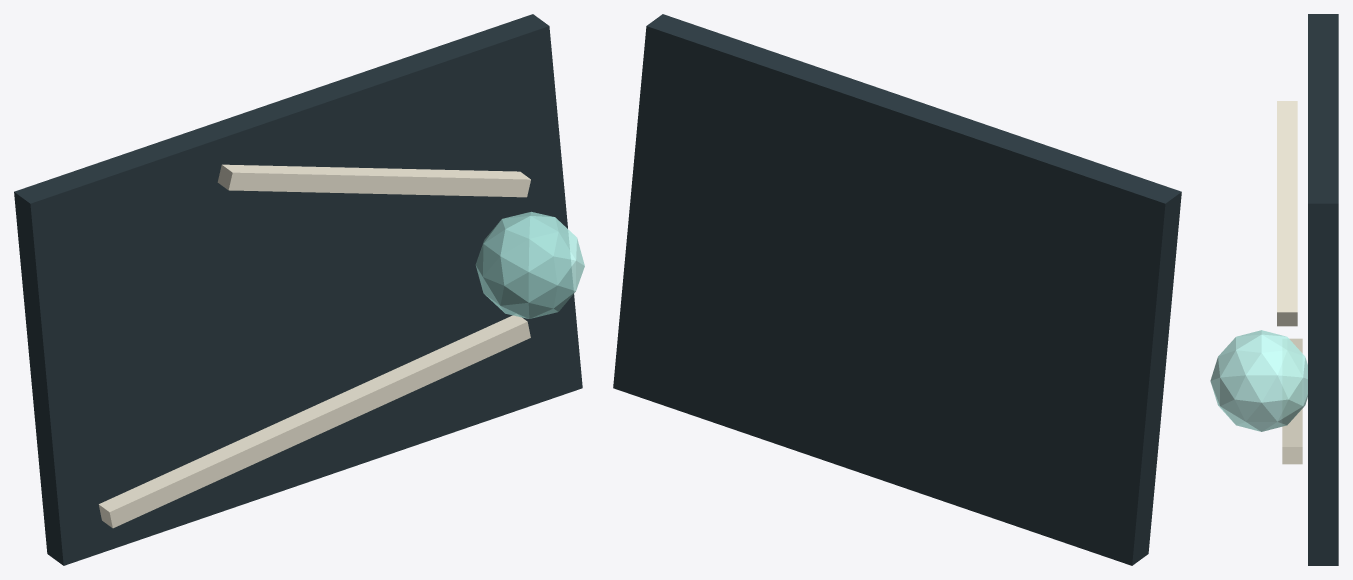
The model's file is 02_world_prop_polish.glb.
3 views of the same model, side by side, from view 1: azimuth 30°, elevation 25°; view 2: azimuth 150°, elevation 25°; view 3: azimuth 270°, elevation 25° (orthographic). The views are drawn at different scales.
Parts seen in each view (by area): view 1: object_overlay_plate, edge_wear_a, glow_socket, edge_wear_b; view 2: object_overlay_plate; view 3: object_overlay_plate, glow_socket, edge_wear_b, edge_wear_a.
Boxes of the visible parts, bbox=[...] form: object_overlay_plate: bbox=[14, 14, 582, 565]; edge_wear_a: bbox=[98, 314, 530, 528]; glow_socket: bbox=[475, 211, 584, 318]; edge_wear_b: bbox=[217, 164, 530, 197]; object_overlay_plate: bbox=[613, 14, 1181, 565]; object_overlay_plate: bbox=[1308, 14, 1338, 565]; glow_socket: bbox=[1210, 330, 1307, 431]; edge_wear_b: bbox=[1277, 101, 1297, 326]; edge_wear_a: bbox=[1282, 338, 1302, 464].
Bounding box in the file's own units: 1.17 × 0.8498 × 0.25.
